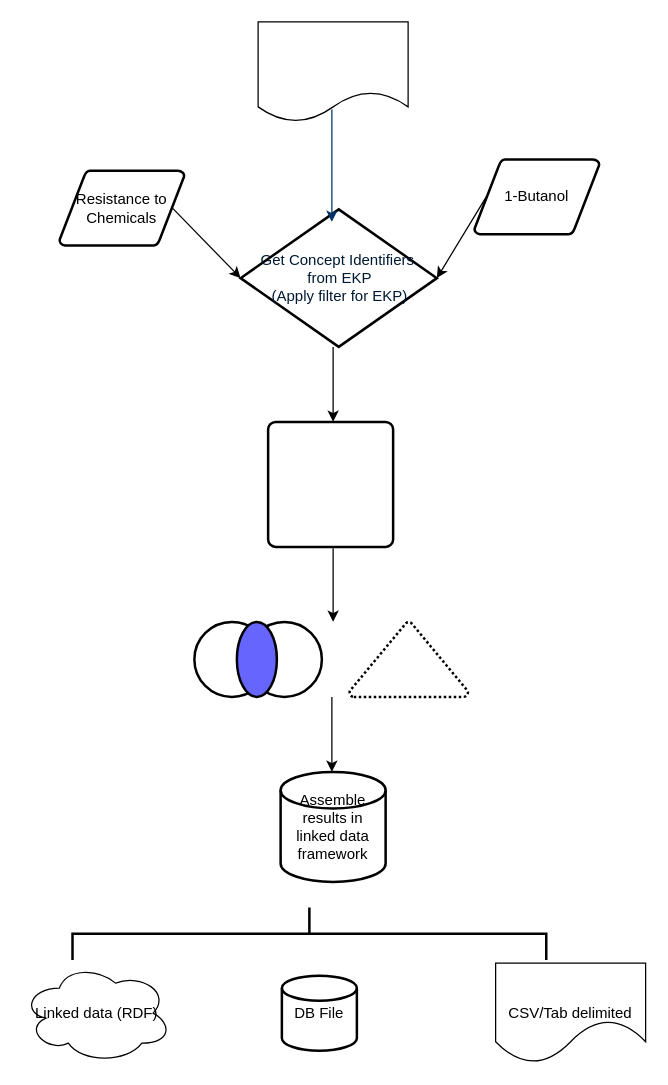
Image size: 668x1085. Some labels were removed from this diagram. Each missing label, with the centre of its shape:
Get Indirect Relations from EKP: point (330, 484)
Intersect Resistance to Chemicals and 1-Butanol: point (408, 659)
List of Yeast Genes as provided by DSM: point (332, 71)
